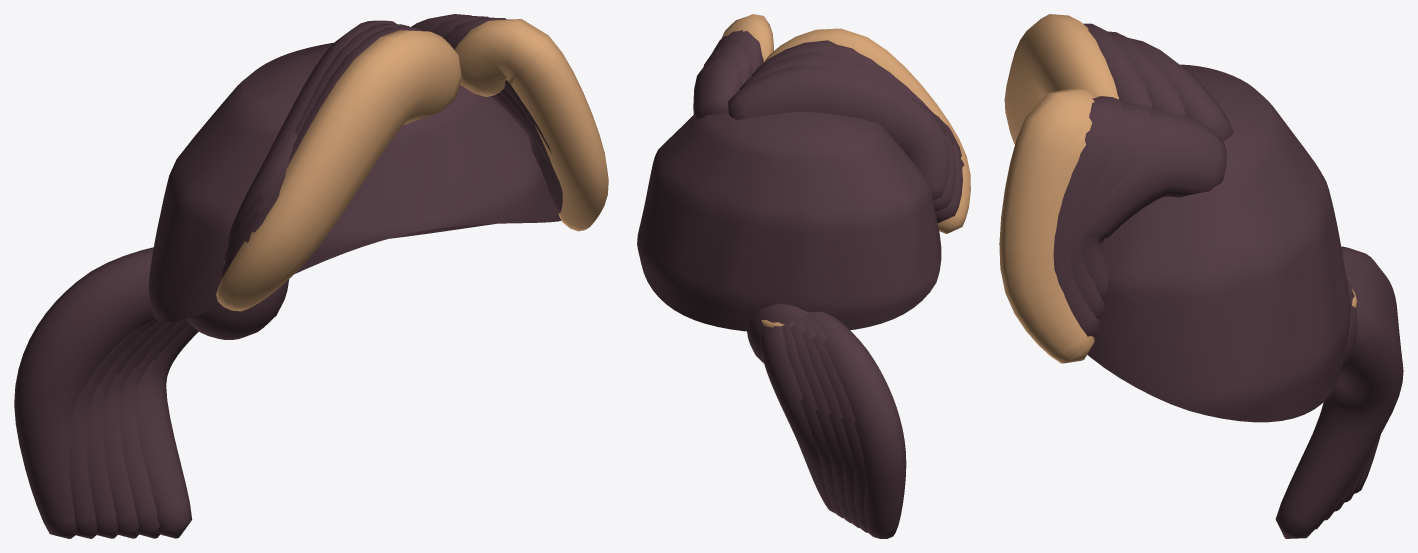
The model's file is studio_low_ponytail_long.glb.
3 views of the same model, side by side, from view 1: azimuth 30°, elevation 25°; view 2: azimuth 150°, elevation 25°; view 3: azimuth 270°, elevation 25° (orthographic). The views are drawn at different scales.
Visible parts, largest first — view 1: low_ponytail; view 2: low_ponytail; view 3: low_ponytail.
Boxes of the visible parts, left/top/right/bottom form: low_ponytail: left=14, top=14, right=608, bottom=538; low_ponytail: left=637, top=14, right=970, bottom=538; low_ponytail: left=999, top=14, right=1403, bottom=538.
Bounding box in the file's own units: 0.5702 × 0.6866 × 0.4382.
